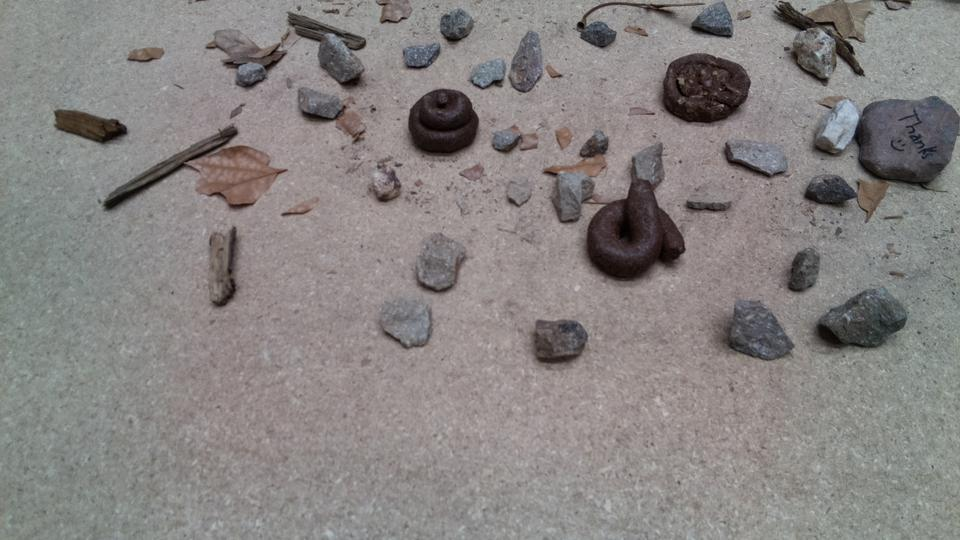poop: (587, 181, 685, 278), (662, 51, 750, 122), (408, 87, 479, 155)
